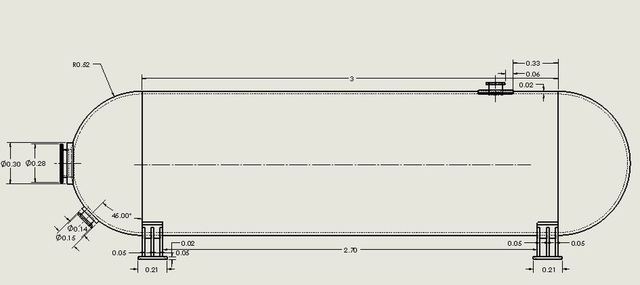nozzle: (120, 223, 183, 270), (531, 223, 574, 272)
